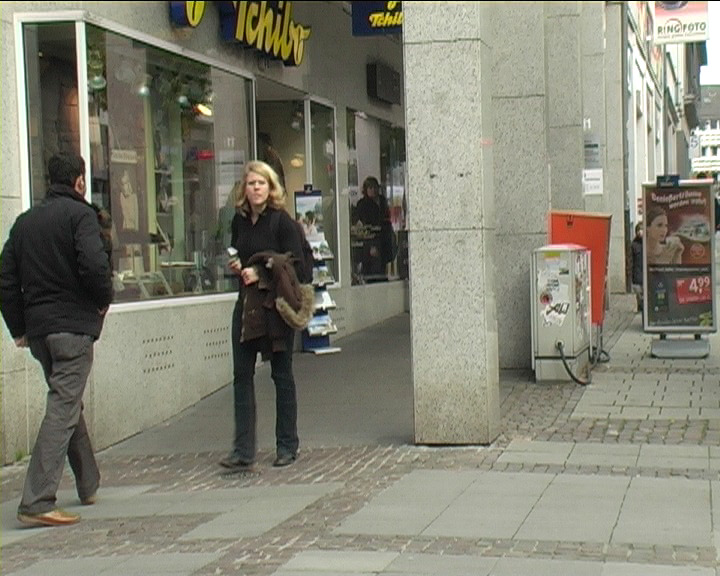deflection: (229, 157, 294, 239)
